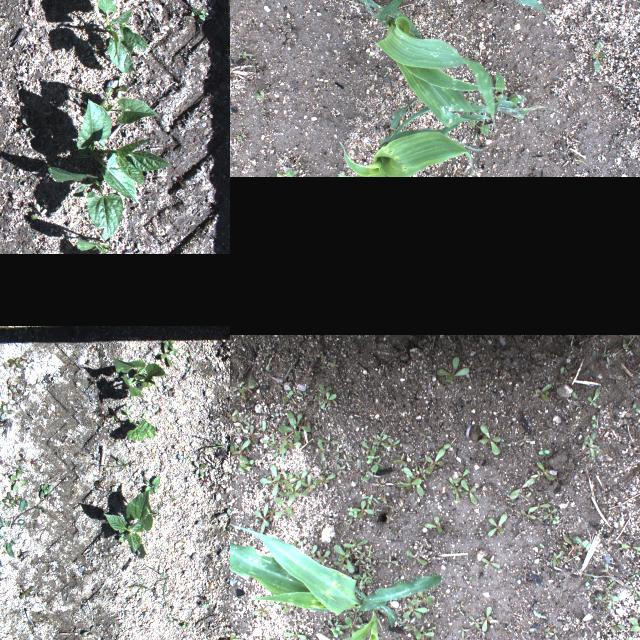crop: (349, 0, 546, 125), (230, 523, 441, 628), (46, 87, 174, 241), (336, 97, 484, 177), (84, 0, 145, 73), (102, 490, 152, 552), (307, 610, 386, 640), (114, 358, 166, 397), (124, 406, 154, 442)
weed: (0, 497, 36, 566), (278, 411, 312, 453), (550, 536, 592, 566), (494, 71, 526, 103), (434, 356, 470, 382), (340, 607, 368, 639), (424, 442, 452, 473), (395, 466, 423, 496), (334, 545, 361, 573), (508, 473, 536, 499), (258, 464, 280, 496), (478, 424, 500, 454), (596, 580, 618, 610), (582, 430, 602, 462), (274, 492, 296, 520), (527, 461, 557, 481), (158, 339, 178, 367), (6, 469, 28, 493), (314, 384, 336, 408), (254, 503, 272, 532), (590, 40, 606, 72), (487, 513, 507, 537), (231, 438, 251, 462), (107, 456, 133, 474), (349, 500, 375, 518), (452, 467, 471, 491), (460, 480, 478, 504), (402, 604, 426, 622), (447, 476, 463, 502), (6, 380, 24, 402), (77, 622, 99, 640), (411, 588, 435, 604), (300, 473, 316, 497), (317, 432, 338, 450), (141, 475, 159, 495), (422, 516, 442, 534), (532, 382, 550, 402), (288, 470, 308, 488), (281, 480, 301, 498), (0, 491, 21, 508), (114, 75, 130, 97), (192, 462, 208, 484), (405, 550, 427, 566), (584, 387, 600, 409), (469, 120, 489, 136), (352, 573, 372, 589), (230, 620, 246, 640), (480, 606, 492, 632), (412, 626, 434, 640), (6, 354, 24, 370), (16, 584, 34, 600), (380, 553, 398, 569), (86, 480, 106, 494), (481, 555, 501, 569), (278, 470, 292, 490), (190, 6, 207, 22), (284, 628, 306, 640), (312, 472, 336, 483), (0, 404, 13, 424), (342, 539, 368, 549), (30, 203, 46, 219), (392, 452, 408, 468), (314, 549, 330, 565), (629, 616, 640, 639), (36, 374, 54, 388), (252, 604, 270, 618), (382, 438, 402, 450), (527, 502, 551, 512), (366, 446, 379, 464), (181, 362, 193, 381), (372, 433, 388, 447), (369, 457, 383, 473), (360, 439, 374, 455), (331, 624, 345, 640), (274, 600, 288, 616), (316, 439, 326, 461), (196, 596, 210, 610), (338, 453, 352, 467), (543, 508, 559, 520), (520, 508, 536, 520), (230, 408, 239, 428), (276, 169, 298, 177), (610, 620, 624, 632), (619, 543, 640, 551), (354, 552, 366, 566), (304, 544, 318, 556), (252, 634, 280, 640), (236, 50, 254, 59), (468, 614, 478, 630), (456, 626, 469, 638), (547, 626, 558, 640), (359, 496, 378, 504), (252, 90, 264, 102), (224, 505, 230, 529), (180, 619, 190, 633), (163, 384, 173, 398), (335, 462, 345, 476), (366, 556, 376, 570), (627, 587, 640, 597), (38, 484, 48, 496), (536, 448, 550, 456), (162, 578, 166, 600), (590, 414, 596, 428), (382, 70, 388, 78), (468, 168, 474, 176), (0, 615, 3, 630), (0, 574, 3, 588), (577, 158, 583, 164), (238, 134, 242, 142), (0, 455, 2, 470)
